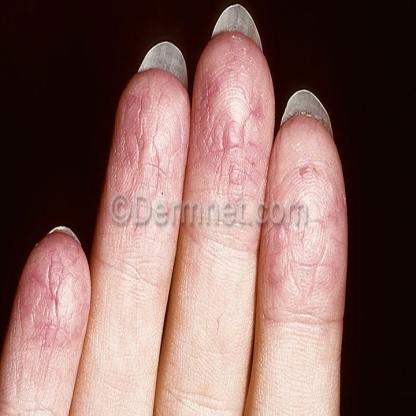Eczema: (192, 149, 226, 195), (323, 197, 349, 257), (108, 174, 146, 214), (227, 146, 254, 202), (41, 270, 76, 312), (214, 40, 251, 78), (154, 140, 180, 194), (224, 84, 250, 135), (289, 272, 327, 306), (250, 59, 273, 115), (39, 239, 83, 268), (258, 224, 284, 273), (146, 78, 170, 130), (314, 138, 338, 190), (287, 223, 319, 260), (294, 160, 317, 211), (261, 278, 291, 316), (118, 136, 151, 170), (192, 101, 216, 145), (289, 120, 315, 158), (153, 191, 183, 223), (184, 200, 214, 232), (121, 96, 146, 131), (327, 261, 346, 307), (251, 119, 268, 170), (224, 206, 256, 233), (41, 314, 71, 342), (272, 176, 290, 222), (15, 300, 38, 334), (172, 87, 188, 133), (197, 62, 218, 94), (74, 270, 87, 313), (274, 142, 294, 168), (21, 271, 42, 292), (72, 314, 84, 336), (129, 80, 147, 94), (258, 172, 266, 198)
